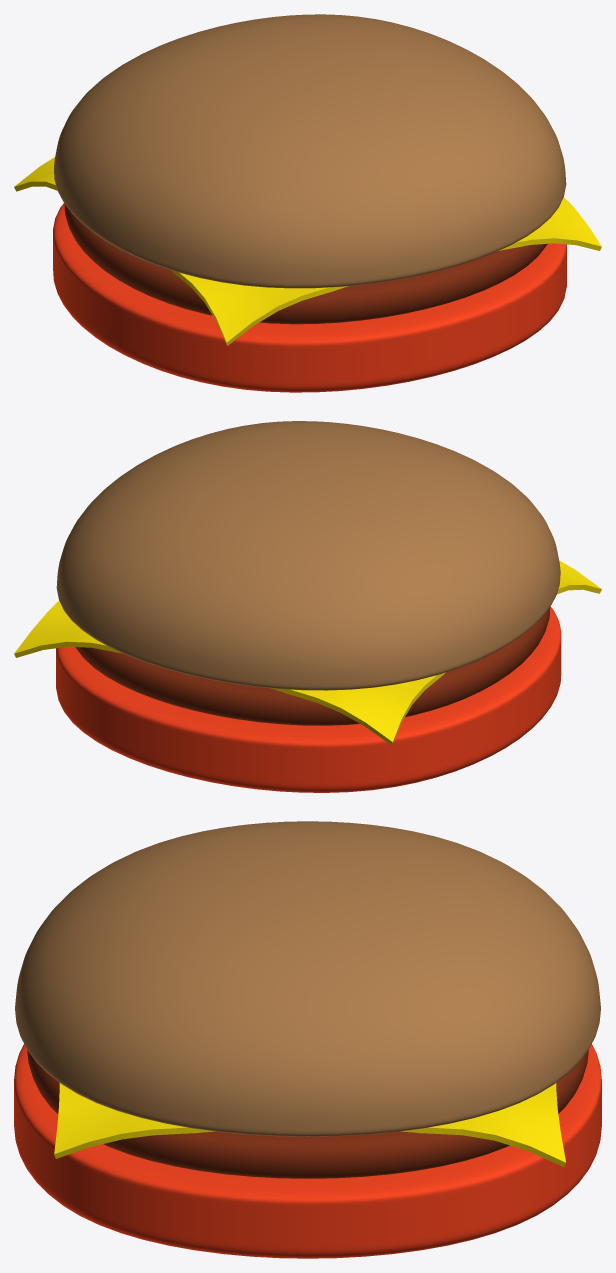
File: hamburger.glb
3 views of the same model, one above another, from view 1: azimuth 30°, elevation 25°; view 2: azimuth 150°, elevation 25°; view 3: azimuth 270°, elevation 25° (orthographic). The views are drawn at different scales.
Visible parts, largest first — view 1: Cube.003, Cube, Cube.001, Plane; view 2: Cube.003, Cube, Cube.001, Plane; view 3: Cube.003, Cube, Cube.001, Plane.
Part boxes in pixels (x1=…): Cube.003: x1=54, y1=14, x2=566, y2=288; Cube: x1=53, y1=203, x2=566, y2=392; Cube.001: x1=64, y1=204, x2=547, y2=324; Plane: x1=14, y1=157, x2=601, y2=345; Cube.003: x1=56, y1=421, x2=560, y2=690; Cube: x1=56, y1=606, x2=561, y2=792; Cube.001: x1=75, y1=607, x2=550, y2=725; Plane: x1=14, y1=560, x2=601, y2=745; Cube.003: x1=15, y1=821, x2=600, y2=1136; Cube: x1=14, y1=1044, x2=601, y2=1258; Cube.001: x1=27, y1=1050, x2=588, y2=1178; Plane: x1=54, y1=1083, x2=565, y2=1166.
Bounding box in the file's own units: 7.23 × 3.8 × 7.23.
